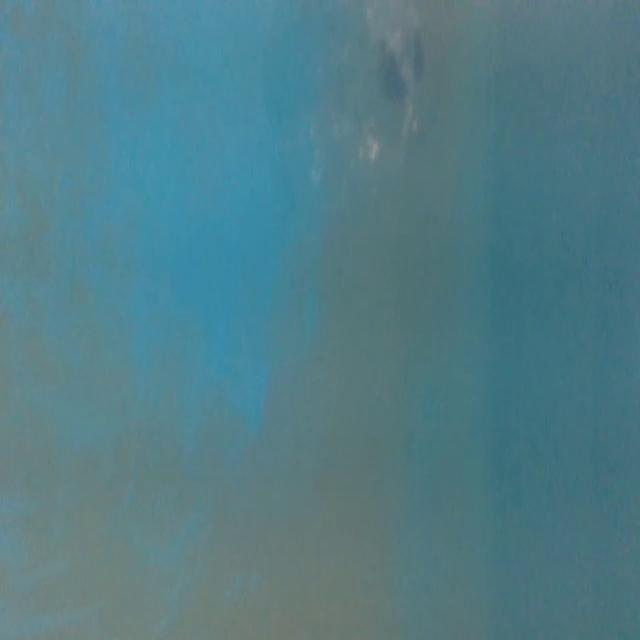plastic bags: (317, 0, 463, 184)
